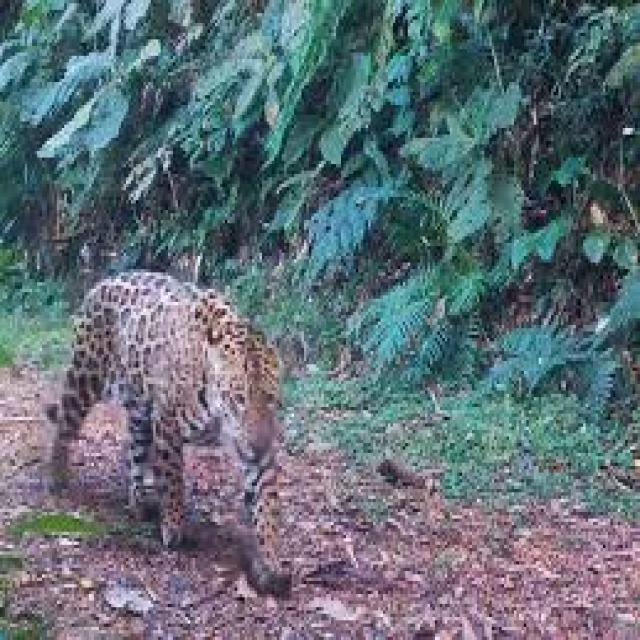Jaguar: (52, 266, 329, 614)
